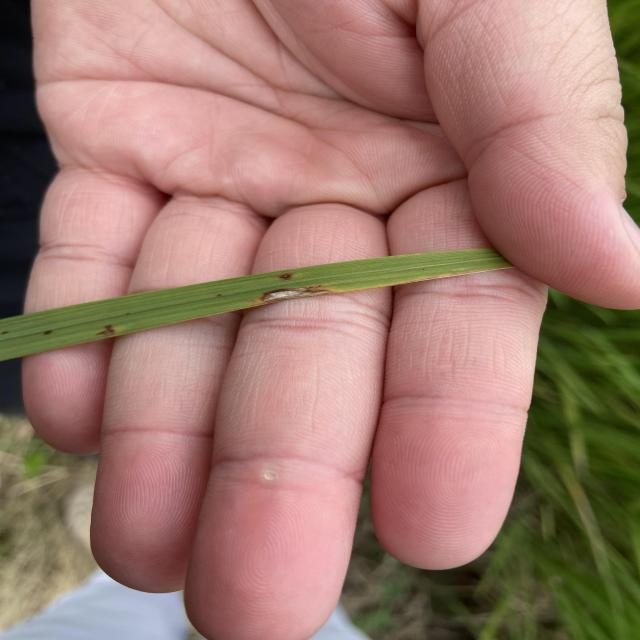Dao on: (252, 285, 335, 307), (95, 324, 116, 337), (278, 273, 294, 281)
